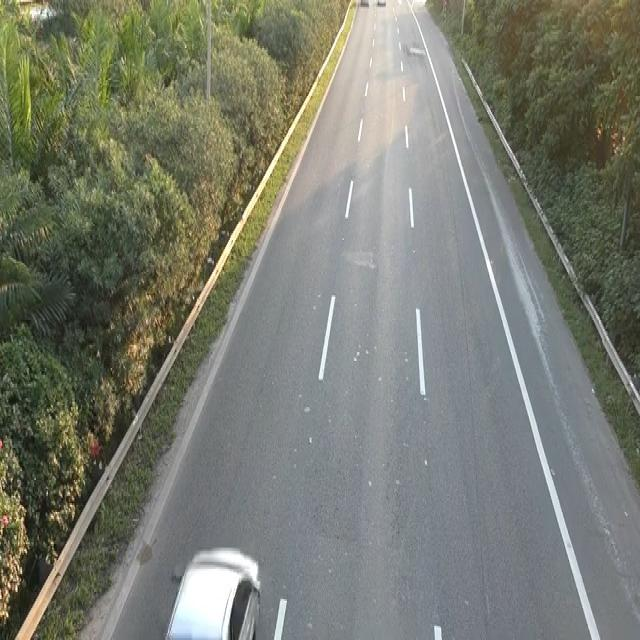bus: (162, 542, 263, 636)
